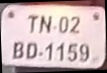character: (38, 14, 52, 33), (27, 13, 38, 34), (12, 40, 24, 59), (25, 41, 37, 59), (69, 15, 80, 34), (67, 43, 78, 62), (78, 43, 89, 62), (58, 16, 68, 34), (55, 42, 64, 61), (45, 42, 52, 61)
